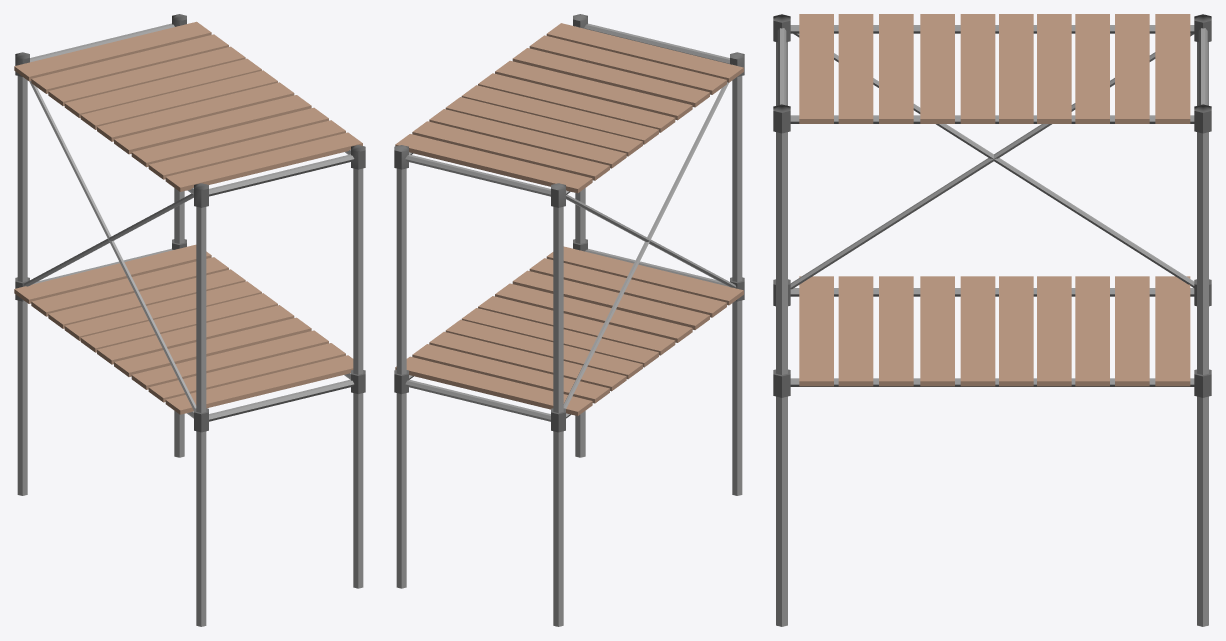
The model's file is Build_Trees_V2.fbx.
3 views of the same model, side by side, from view 1: azimuth 30°, elevation 25°; view 2: azimuth 150°, elevation 25°; view 3: azimuth 270°, elevation 25° (orthographic). The views are drawn at different scales.
Parts seen in each view (by area): view 1: Build_Trees_V2; view 2: Build_Trees_V2; view 3: Build_Trees_V2.
Boxes of the visible parts, <box> form: Build_Trees_V2: <box>14,14,365,626</box>; Build_Trees_V2: <box>394,14,744,626</box>; Build_Trees_V2: <box>773,14,1211,626</box>.
Size of the model in its own units: 3.52 by 8.06 by 6.21.
